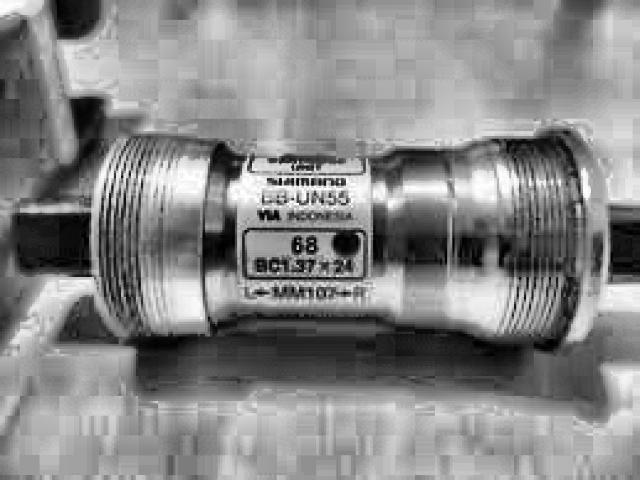bottom_bracket: (8, 131, 640, 358)
